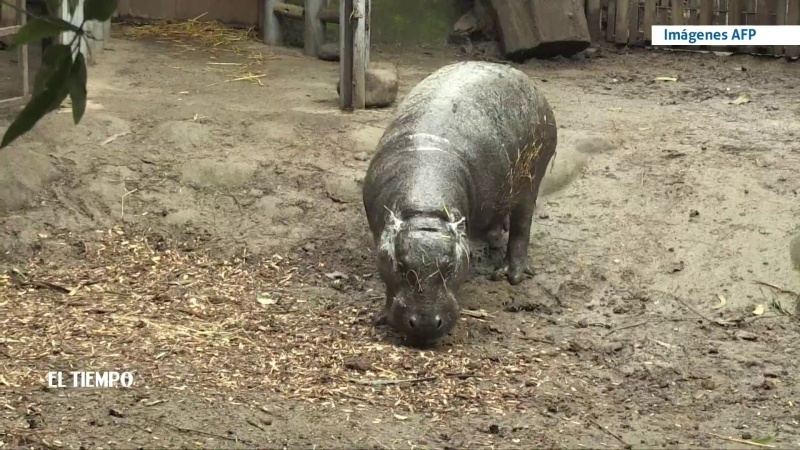hipopotamo: (324, 49, 569, 353)
